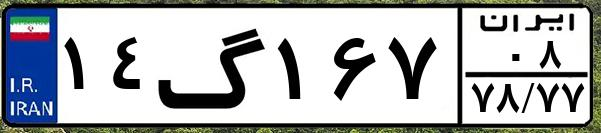0: (508, 27, 537, 80)
1: (270, 28, 330, 110), (57, 26, 110, 100)
4: (110, 28, 156, 98)
6: (330, 28, 385, 110)
7: (385, 28, 445, 110), (560, 70, 590, 125), (470, 70, 495, 125), (535, 70, 560, 125)
8: (537, 27, 568, 80), (495, 70, 520, 125)
گ: (156, 12, 270, 120)
